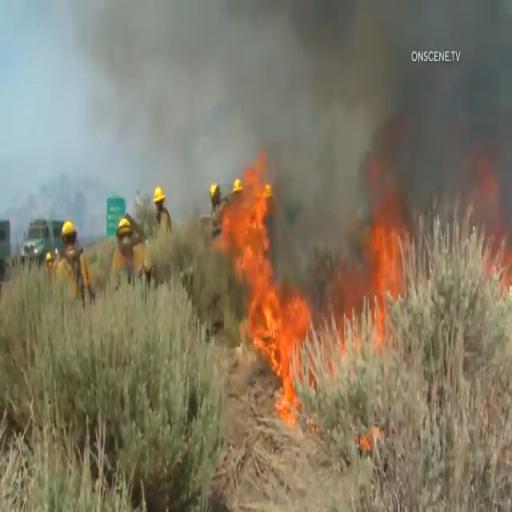fire: (228, 183, 310, 416), (324, 204, 416, 372)
smoke: (222, 4, 394, 156)
